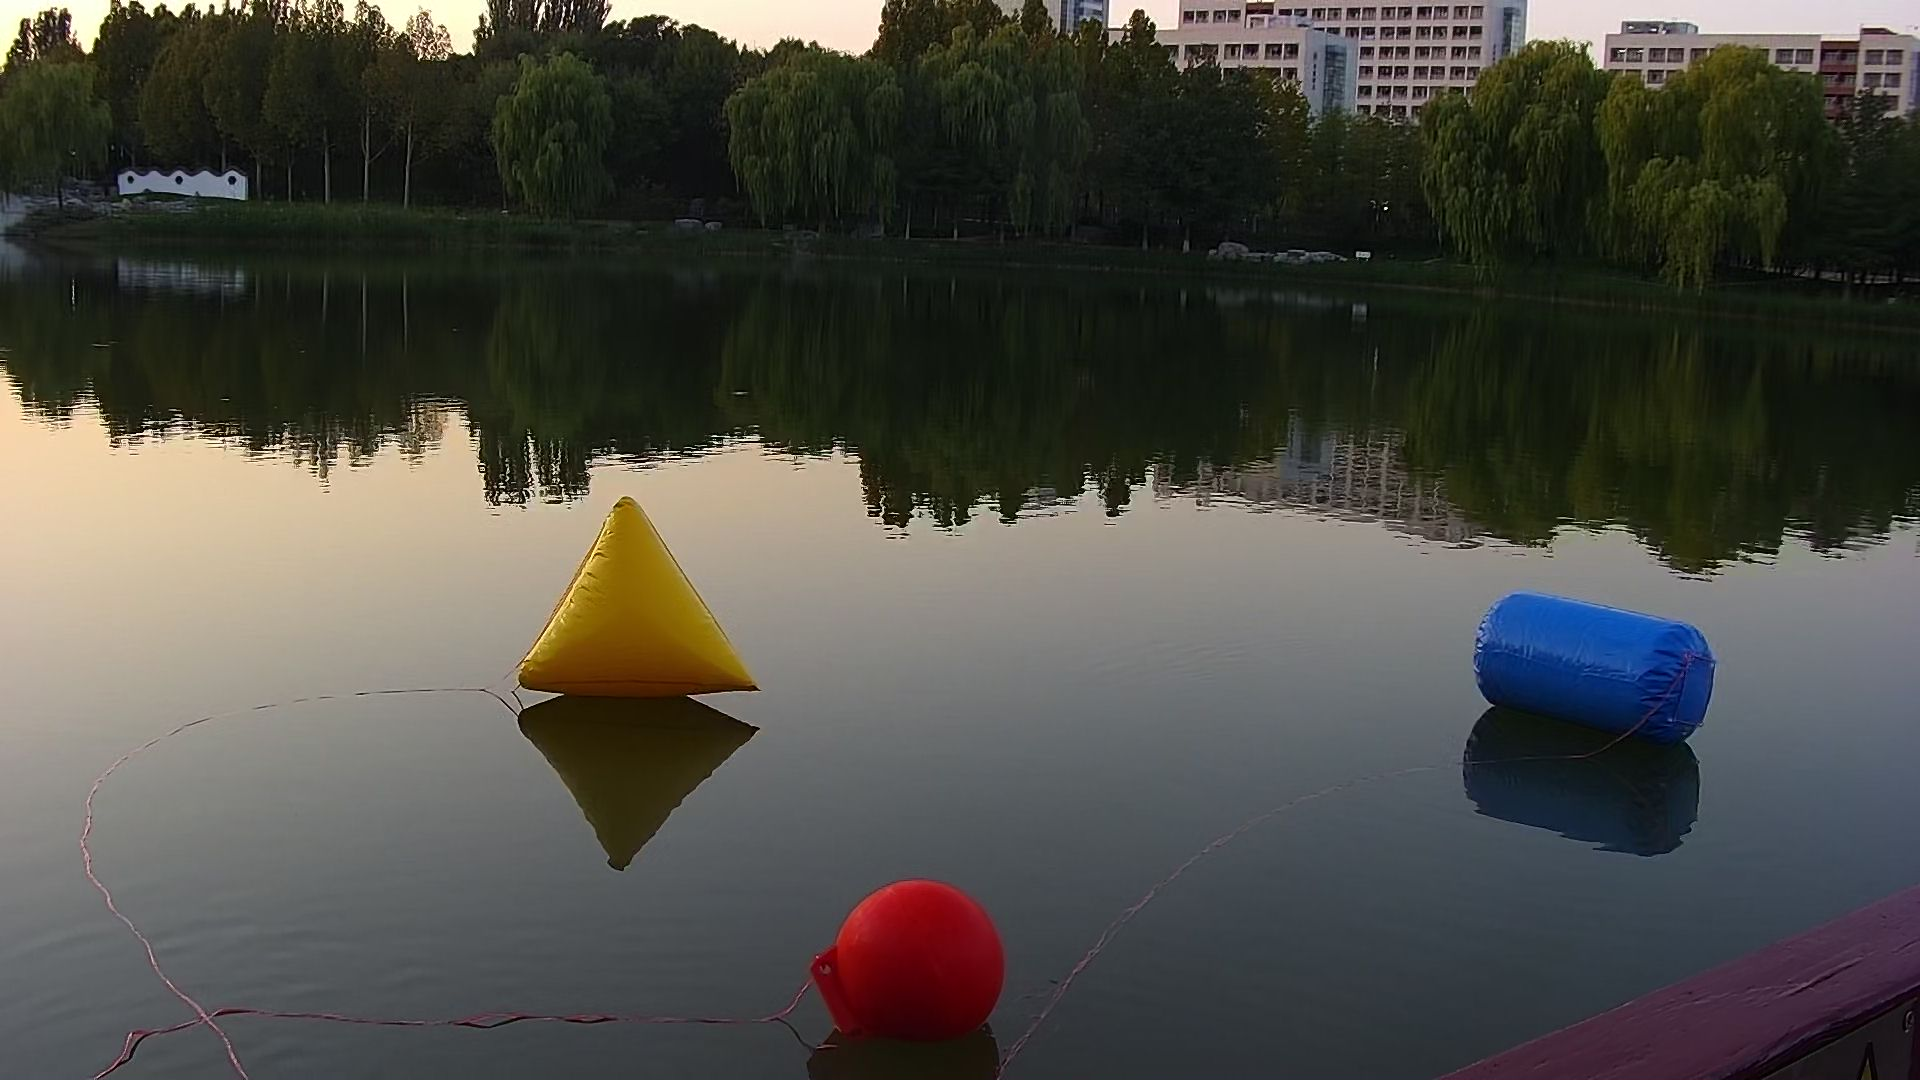ball: (808, 868, 1007, 1054)
rubbish: (512, 485, 760, 702), (1469, 572, 1720, 756)
